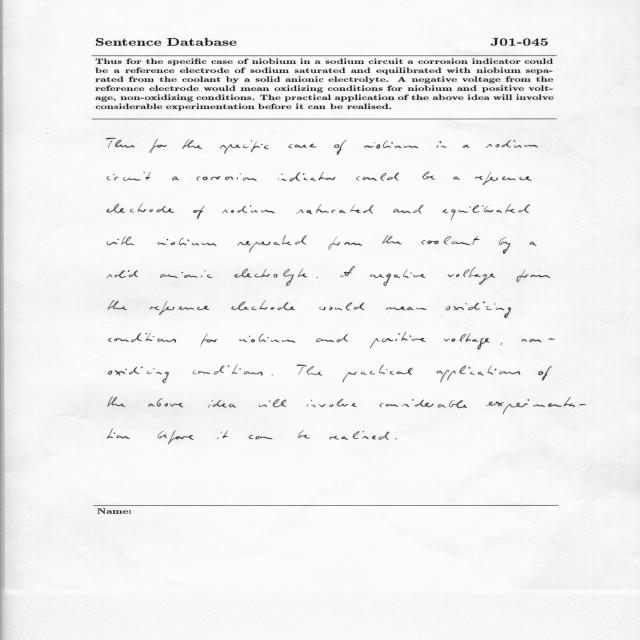word: (486, 397, 586, 414), (437, 366, 521, 383), (442, 204, 530, 220), (234, 268, 307, 286), (237, 236, 307, 253), (441, 302, 511, 319), (343, 365, 413, 382), (109, 367, 169, 384), (370, 332, 426, 349), (370, 269, 425, 286), (448, 267, 495, 285), (150, 301, 209, 315), (380, 399, 467, 408), (296, 204, 374, 214), (193, 365, 262, 376), (475, 172, 532, 185), (444, 334, 490, 350), (220, 140, 269, 154), (109, 333, 176, 343), (231, 301, 295, 311), (107, 204, 174, 213), (330, 431, 390, 440), (422, 236, 480, 245), (278, 172, 335, 181), (240, 334, 296, 343), (158, 431, 194, 445), (196, 173, 257, 181), (158, 238, 217, 246), (329, 237, 363, 250), (365, 141, 419, 149), (222, 206, 275, 214), (160, 270, 213, 278), (486, 140, 538, 148), (516, 270, 550, 282), (307, 399, 357, 407), (107, 172, 151, 181), (356, 172, 399, 181), (319, 303, 365, 311), (148, 399, 183, 408), (106, 138, 135, 148), (297, 365, 323, 376), (393, 205, 424, 214), (316, 334, 349, 342), (107, 270, 138, 278), (107, 237, 134, 246), (150, 139, 167, 153), (200, 333, 217, 347), (107, 429, 130, 439), (209, 400, 237, 408), (259, 399, 286, 407), (538, 366, 552, 381), (334, 140, 347, 155), (183, 139, 202, 149), (108, 300, 127, 310), (499, 237, 510, 254), (382, 236, 402, 245), (108, 397, 126, 407), (386, 307, 426, 311), (193, 206, 205, 219), (341, 266, 355, 277), (521, 339, 555, 343), (289, 144, 317, 148), (422, 172, 435, 180), (298, 431, 310, 439), (249, 435, 272, 439), (217, 431, 228, 439), (437, 141, 447, 148), (172, 177, 179, 181), (453, 176, 460, 180), (530, 242, 537, 246), (463, 145, 470, 148), (500, 343, 502, 345), (396, 438, 398, 440), (317, 277, 319, 278), (271, 375, 273, 376)
